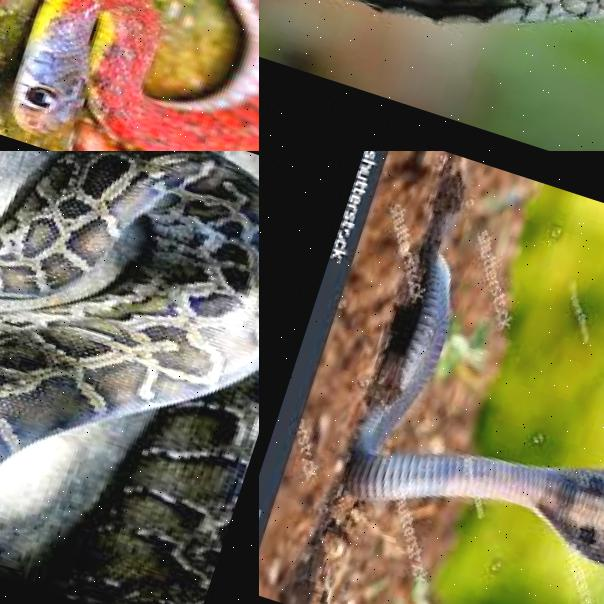snake: (0, 151, 259, 604), (329, 205, 604, 604), (259, 0, 604, 143), (0, 0, 259, 151)
